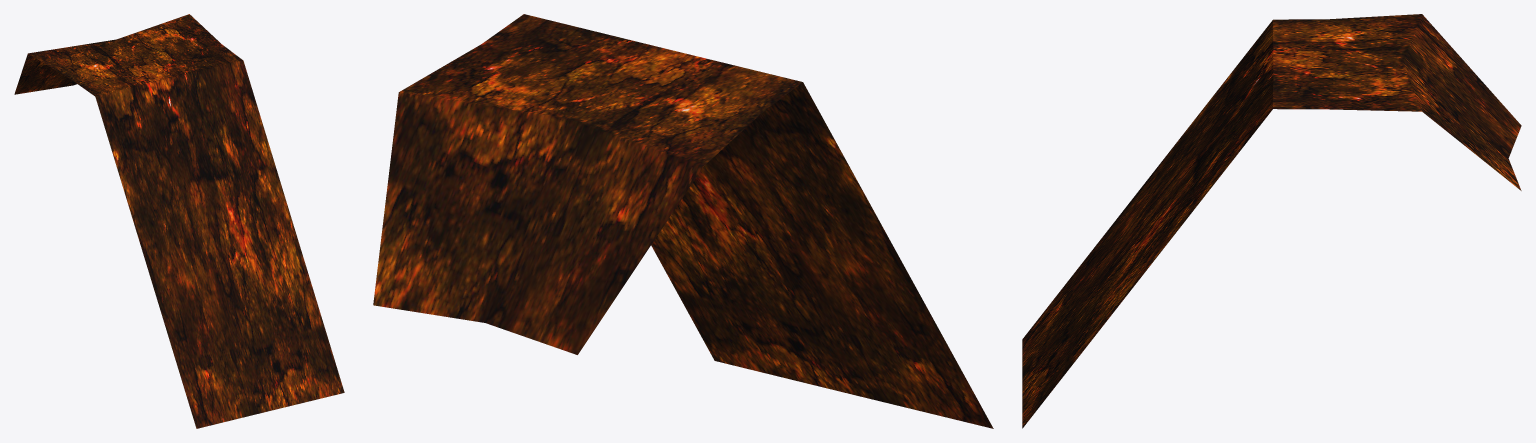
The model's file is Object21_yanjiang.fbx.
3 views of the same model, side by side, from view 1: azimuth 30°, elevation 25°; view 2: azimuth 150°, elevation 25°; view 3: azimuth 270°, elevation 25° (orthographic). The views are drawn at different scales.
Parts seen in each view (by area): view 1: yanjiang; view 2: yanjiang; view 3: yanjiang.
Boxes of the visible parts, x1,y1,x2,y2 form: yanjiang: [14, 14, 344, 428]; yanjiang: [373, 14, 993, 428]; yanjiang: [1022, 14, 1521, 428].
Bounding box in the file's own units: 255 × 391 × 551.
Materials: 1 (1 with a texture image).
